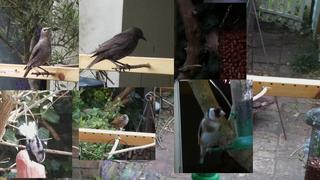dunnock: (105, 114, 129, 131)
goldfinch: (198, 106, 226, 164)
long tailed tit: (30, 117, 46, 164)
mouse: (204, 27, 220, 57)
starling: (86, 27, 147, 73), (23, 27, 52, 78)
